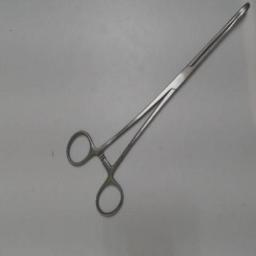Sponge Forceps: (62, 0, 254, 222)
